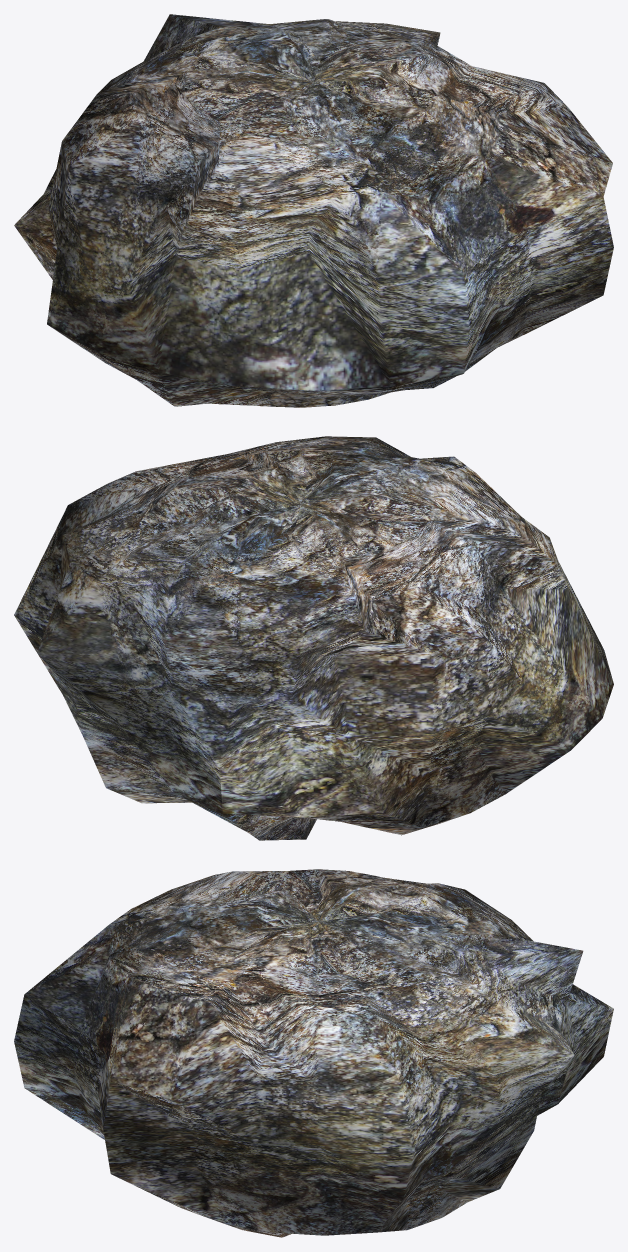
File: Stein_2.fbx
3 views of the same model, one above another, from view 1: azimuth 30°, elevation 25°; view 2: azimuth 150°, elevation 25°; view 3: azimuth 270°, elevation 25° (orthographic). The views are drawn at different scales.
Parts seen in each view (by area): view 1: Kugel; view 2: Kugel; view 3: Kugel.
Part boxes in pixels (x1=…): Kugel: x1=14, y1=14, x2=613, y2=407; Kugel: x1=14, y1=436, x2=613, y2=840; Kugel: x1=14, y1=869, x2=613, y2=1237.
Size of the model in its own units: 94.31 by 52.98 by 103.
1 material, 1 textured.
